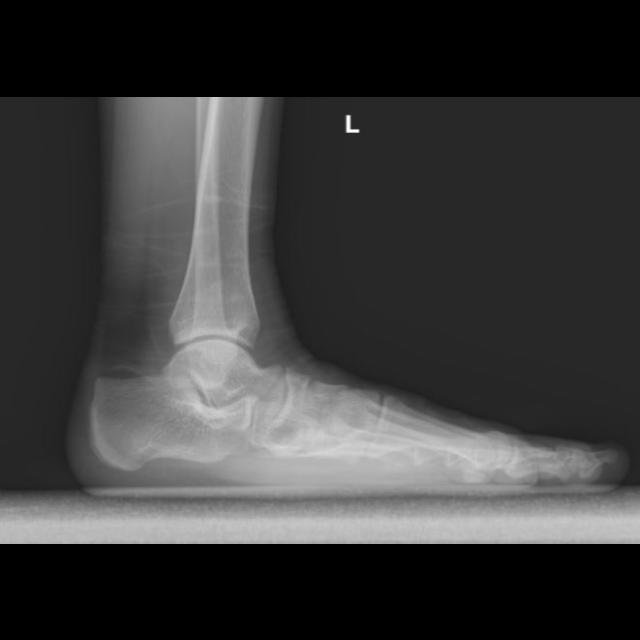a: (92, 364, 259, 468)
b: (368, 396, 513, 466), (267, 366, 318, 453)
